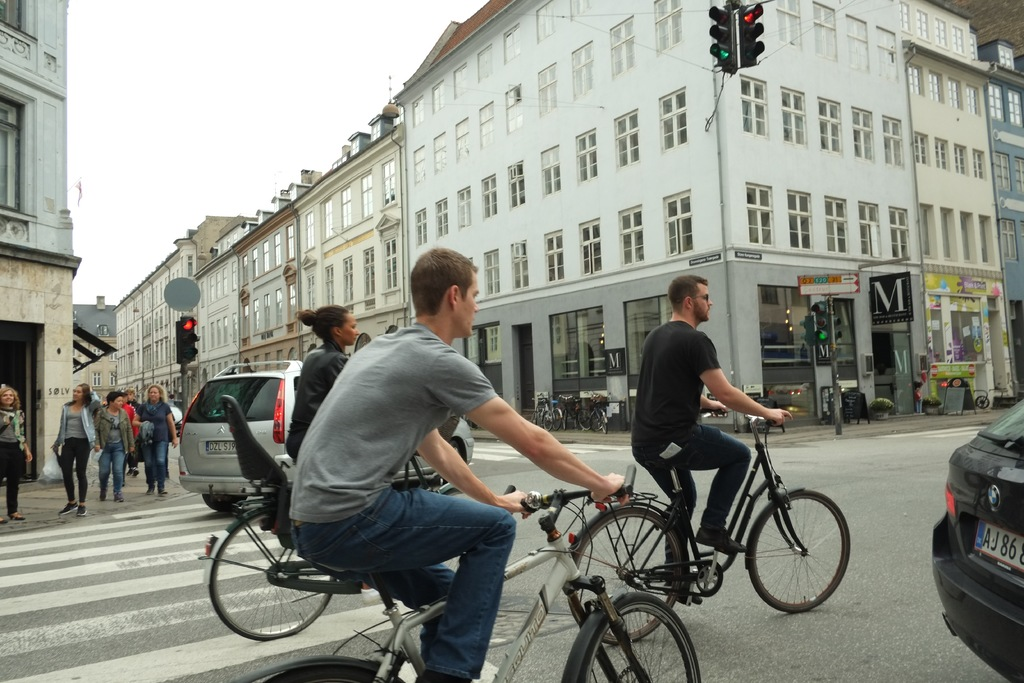Car: (179, 345, 476, 518), (928, 397, 1023, 682)
